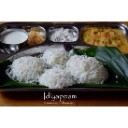idiyappam: (69, 53, 110, 86), (8, 56, 44, 81), (41, 63, 73, 89), (41, 46, 72, 65)
